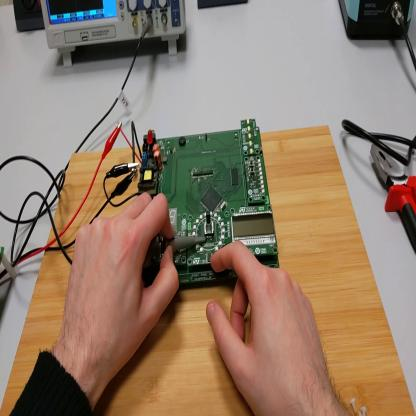hand: (206, 237, 331, 416), (62, 190, 180, 375)
low voltage board: (121, 120, 280, 290)
oscilloscope: (40, 3, 186, 62)
pliers: (372, 145, 416, 251)
socket: (13, 2, 46, 35)
welder station: (339, 1, 414, 43)
working area: (3, 124, 416, 414)
